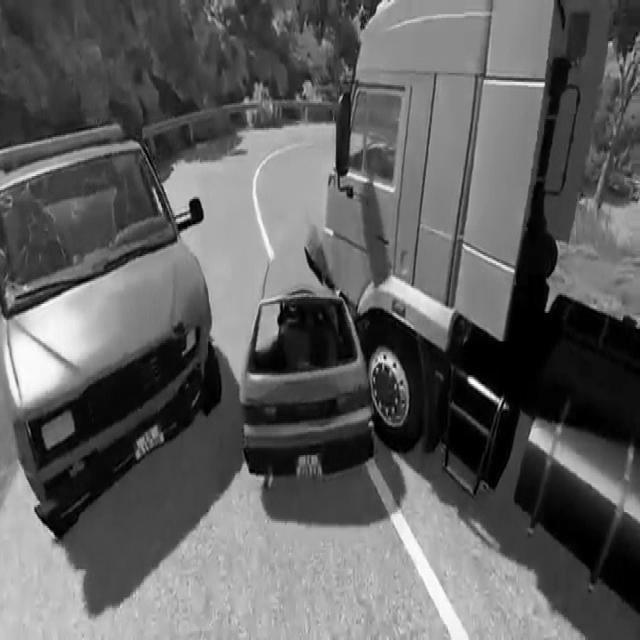accident: (230, 0, 640, 640)
vehicle: (0, 121, 227, 536)
